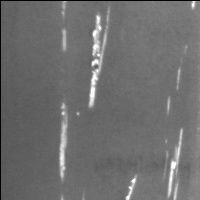scratches: (86, 10, 113, 110), (166, 127, 187, 200), (57, 103, 72, 183), (58, 2, 71, 52), (123, 174, 140, 200)
